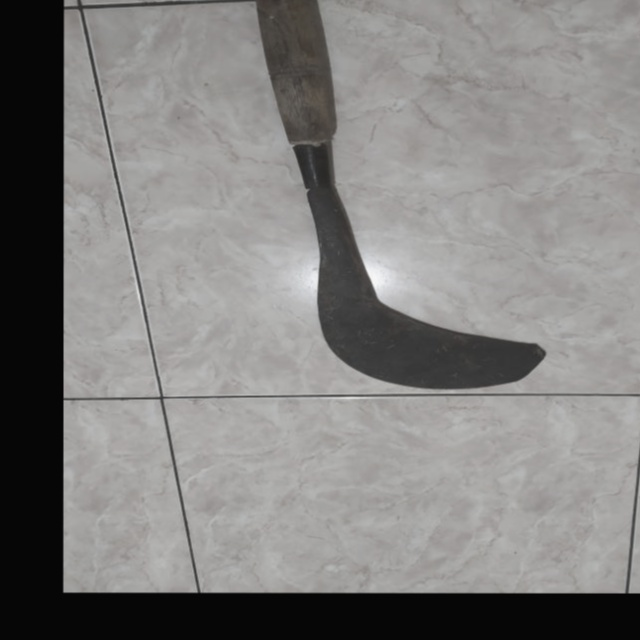Sharp-Object: (244, 0, 565, 400)
